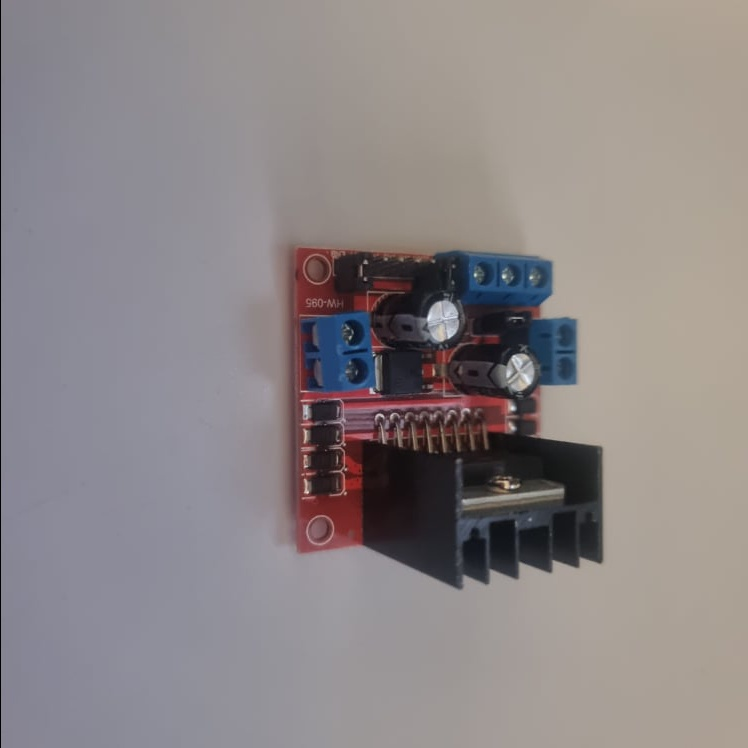MOTOR: (291, 246, 606, 590)
